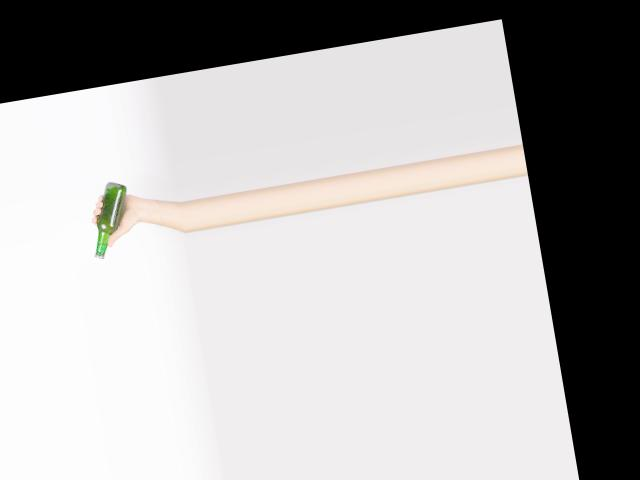beer: (83, 179, 137, 259)
